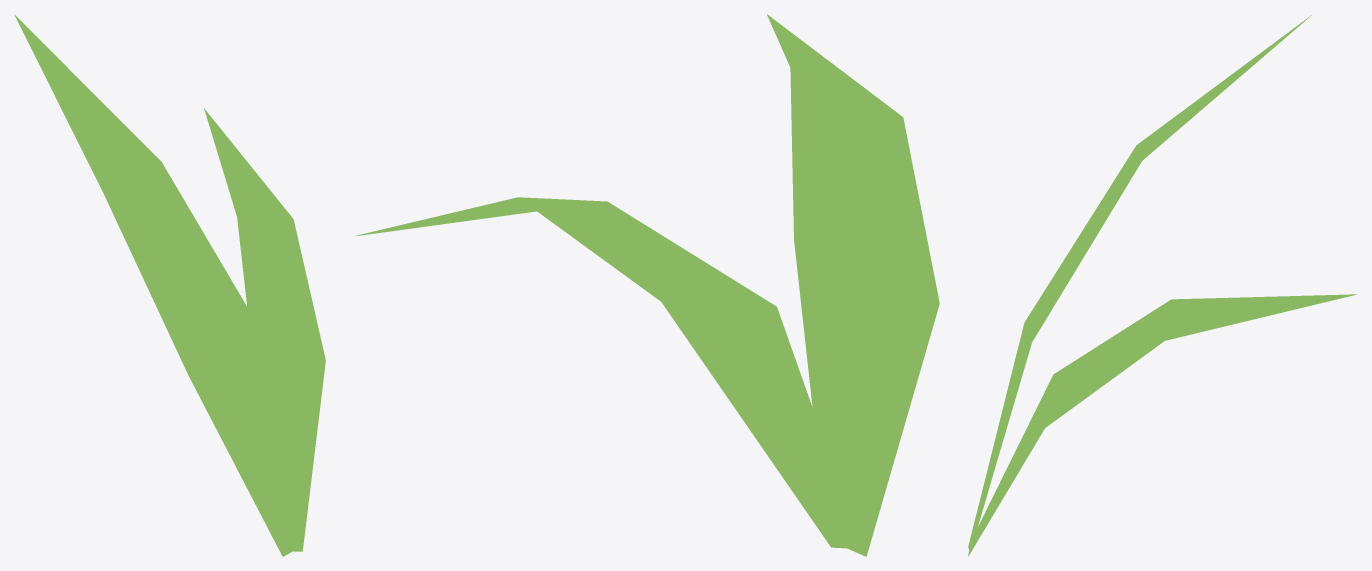
File: Plant_e_TwoS_02.fbx
The picture shows the model from 3 angles, left to right: view 1: azimuth 30°, elevation 25°; view 2: azimuth 150°, elevation 25°; view 3: azimuth 270°, elevation 25°; orthographic projection. The views are drawn at different scales.
Visible parts, largest first — view 1: Plant_e_TwoS_02; view 2: Plant_e_TwoS_02; view 3: Plant_e_TwoS_02.
Part boxes in pixels (x1,y1,x2,y2): Plant_e_TwoS_02: (14,14,325,556); Plant_e_TwoS_02: (355,14,939,556); Plant_e_TwoS_02: (968,15,1357,556).
Size of the model in its own units: 0.2615 by 0.533 by 0.394.
